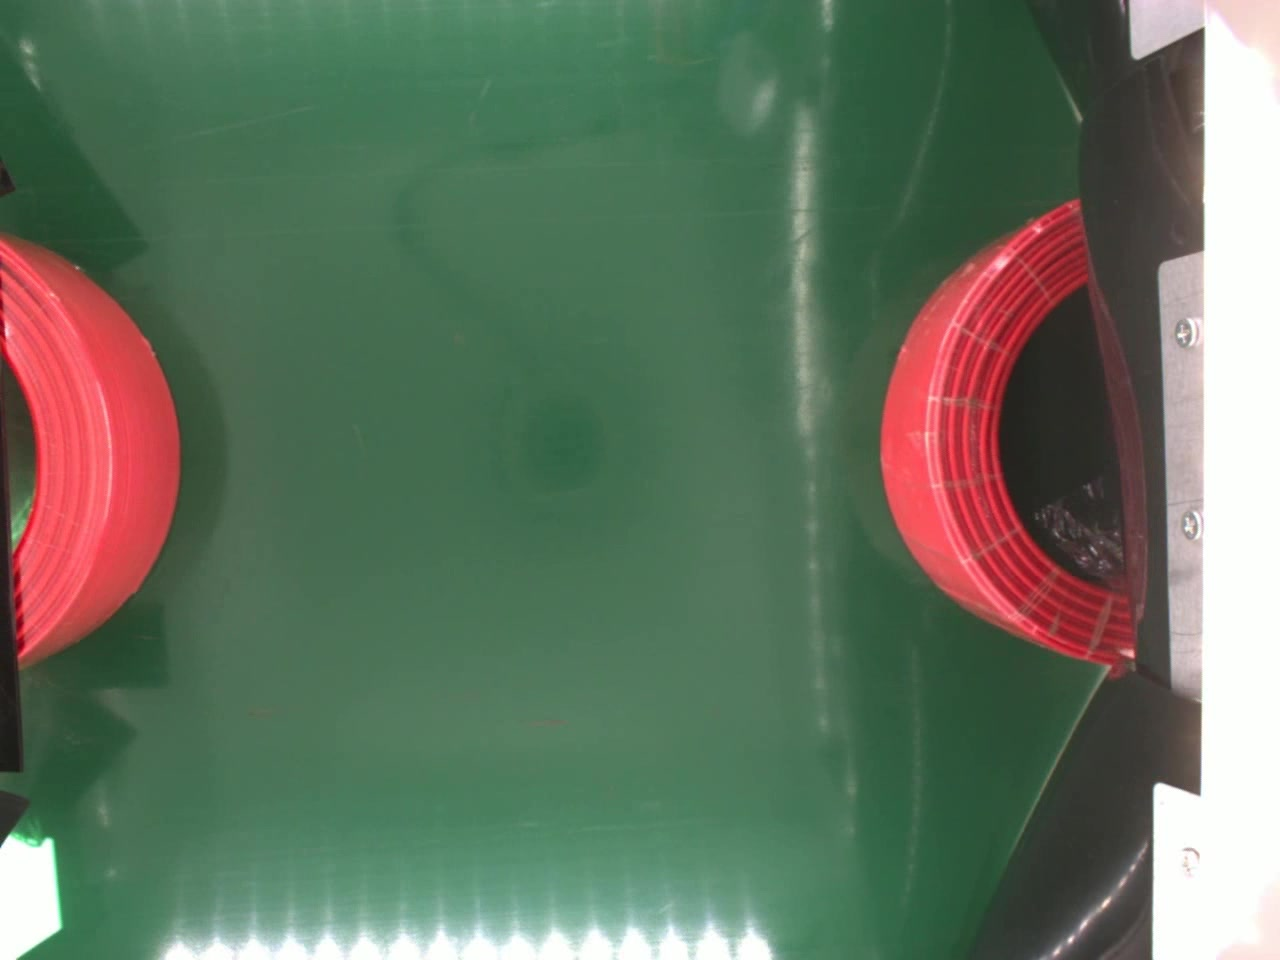red: (878, 194, 1137, 666), (0, 217, 181, 668)
